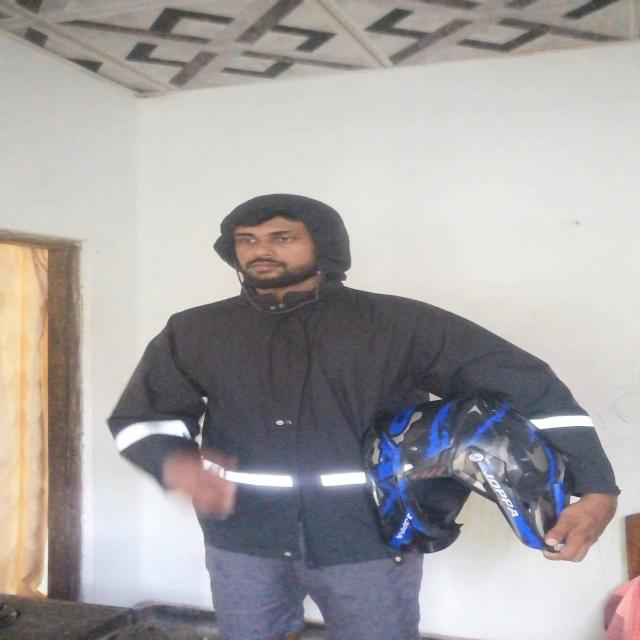Jacket_Wearer: (128, 291, 582, 596)
Person: (108, 187, 622, 634)
